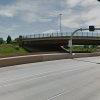Bridge: (12, 26, 100, 46)
